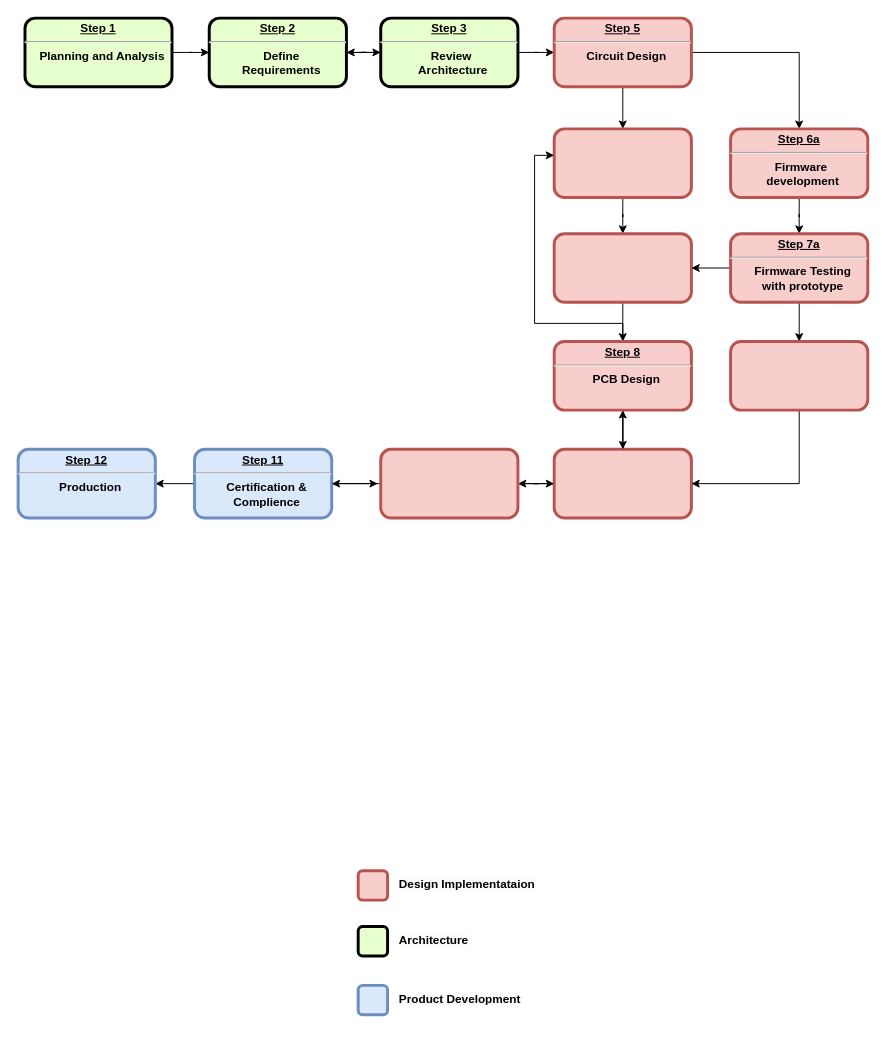
This 886x1042 diagram has some shape labels left out. The centre of each missing label's shape, as x and y in pixels:
Step 10 Refinement & Iteration: pixel 449 483
Step 6 Prototype Development: pixel 622 162
Step 7 Prototype Testing: pixel 622 267
Step 8a Integration with HW: pixel 799 375
Step 9 Testing and Debugging: pixel 622 483
